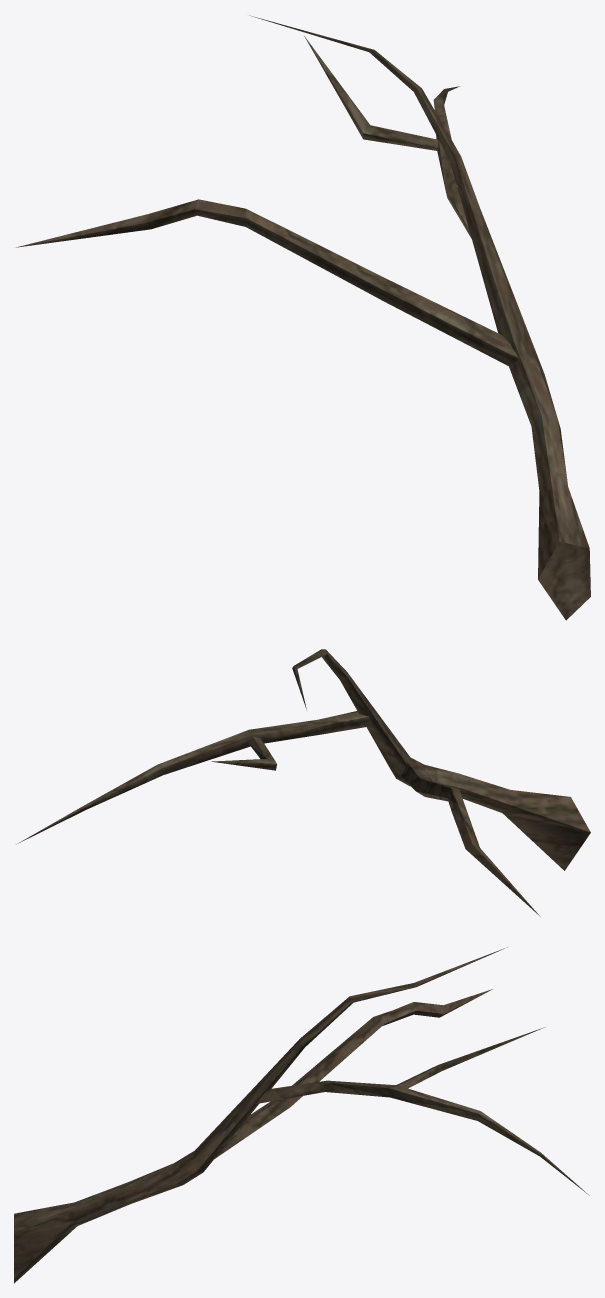
File: bg_anh_mirrorv_branch01_sm_phs.FBX
3 renders of one model, top to bottom at view 1: azimuth 30°, elevation 25°; view 2: azimuth 150°, elevation 25°; view 3: azimuth 270°, elevation 25°, orthographic. The views are drawn at different scales.
Parts seen in each view (by area): view 1: bg_anh_mirrorv_branch01_sm_phs; view 2: bg_anh_mirrorv_branch01_sm_phs; view 3: bg_anh_mirrorv_branch01_sm_phs.
Part boxes in pixels (x1=…): bg_anh_mirrorv_branch01_sm_phs: x1=16, y1=15, x2=590, y2=620; bg_anh_mirrorv_branch01_sm_phs: x1=16, y1=649, x2=590, y2=916; bg_anh_mirrorv_branch01_sm_phs: x1=14, y1=947, x2=589, y2=1283.
Size of the model in its own units: 204 by 152 by 242.
